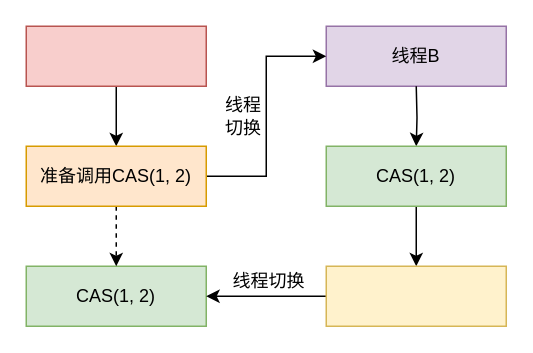
The diagram is 533 pixels wide and 353 high, and some of its shapes have lost their labels. Each missing label, with the centre of its shape:
"CAS(2,1)" belongs at pixel 415 295.
"线程A" belongs at pixel 115 55.
